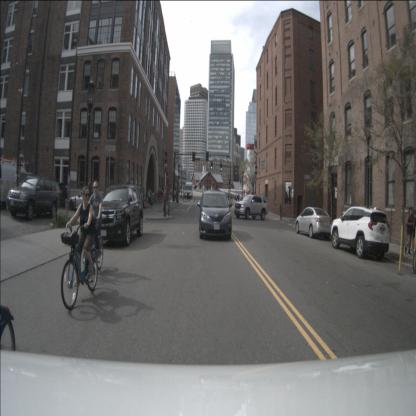human-pedestrian-adult: (404, 206, 414, 254), (86, 181, 94, 233), (410, 203, 416, 254), (148, 188, 153, 205), (279, 200, 283, 221), (146, 198, 152, 208), (143, 198, 148, 209), (166, 189, 169, 205), (146, 188, 149, 204), (146, 196, 150, 206), (172, 188, 174, 202), (174, 190, 176, 200), (236, 193, 238, 202), (238, 193, 240, 202)
vehicle-bicycle: (60, 186, 98, 310), (82, 181, 104, 272)
vehicle-car: (330, 206, 390, 258), (94, 184, 144, 246), (7, 176, 62, 219), (199, 191, 232, 240), (0, 153, 27, 210), (295, 207, 333, 238), (234, 195, 268, 220), (69, 188, 104, 211), (46, 183, 69, 208), (184, 182, 193, 199)
